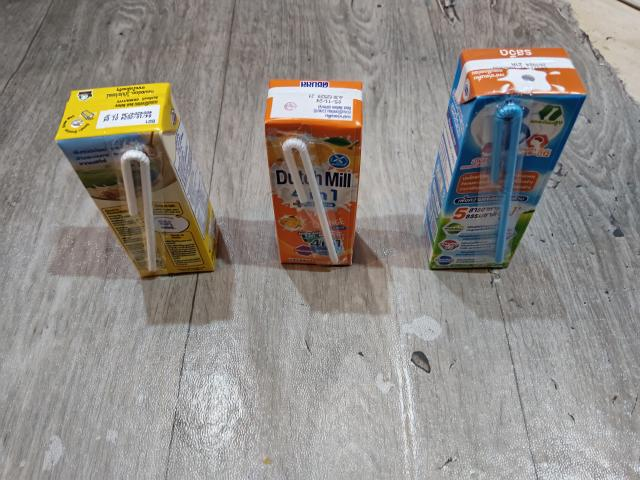drink_box: (416, 44, 596, 278), (44, 72, 228, 288), (266, 75, 367, 270)
